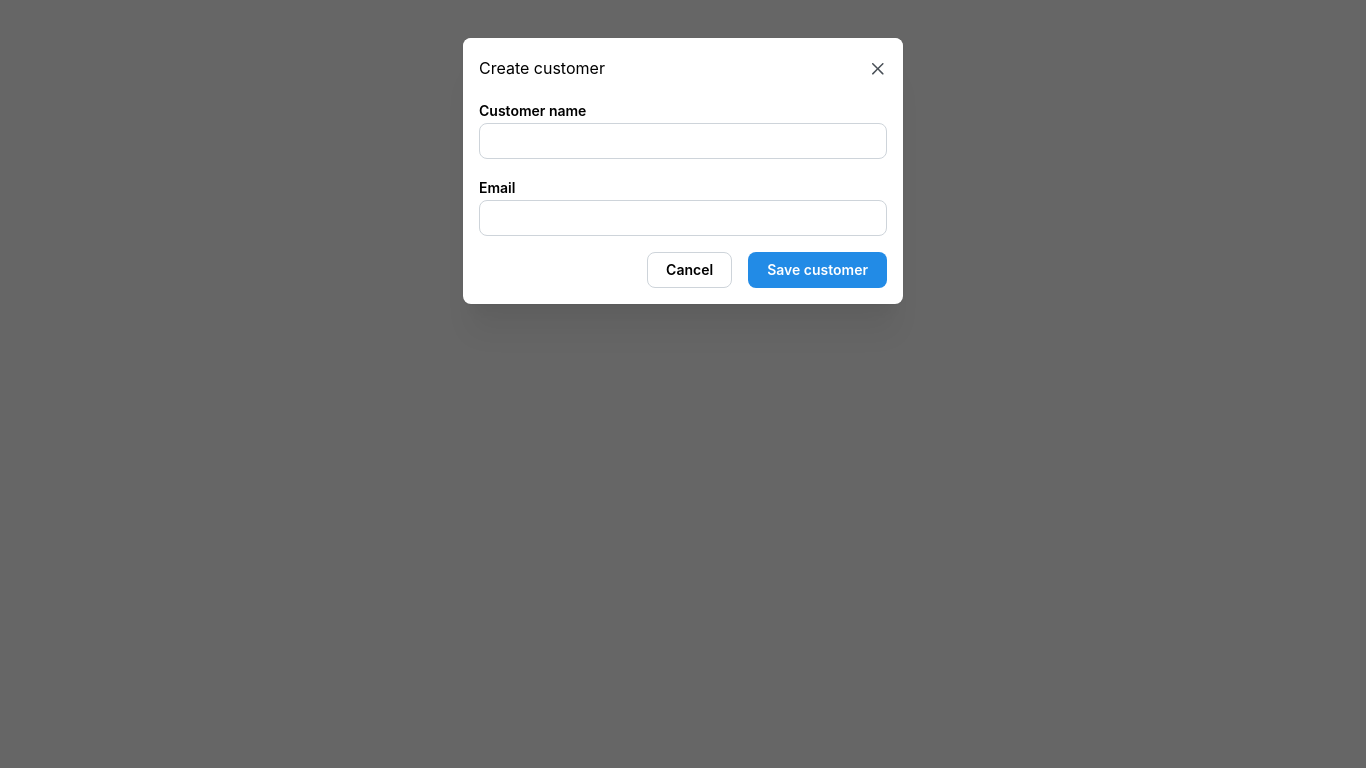
Test case: customer management integration › validates normalized Unicode name and ASCII email before any request
This screenshot has width=1366, height=768.
Click the button "Save customer".
click(818, 270)  # box x1=748 y1=252 x2=887 y2=288
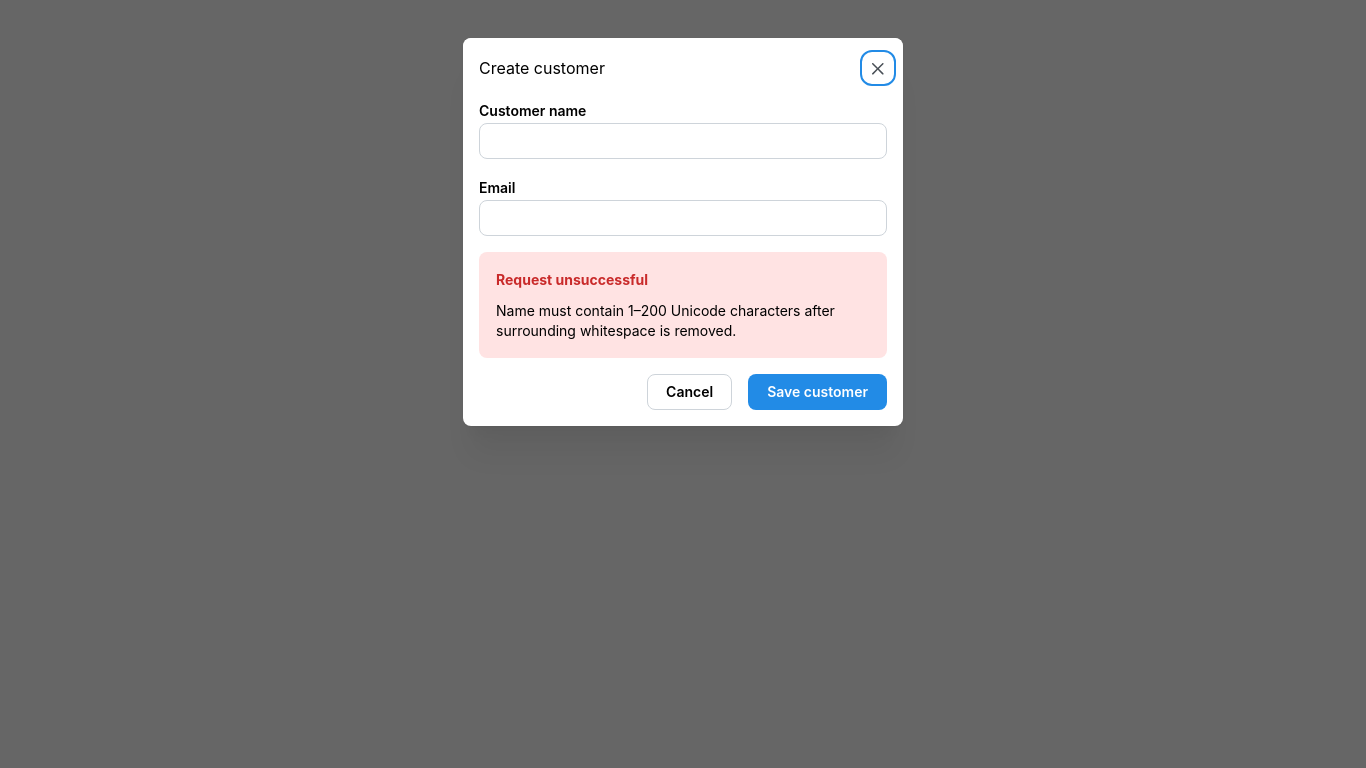
expect the message shows "Name must contain": met, box x1=496 y1=302 x2=835 y2=339
